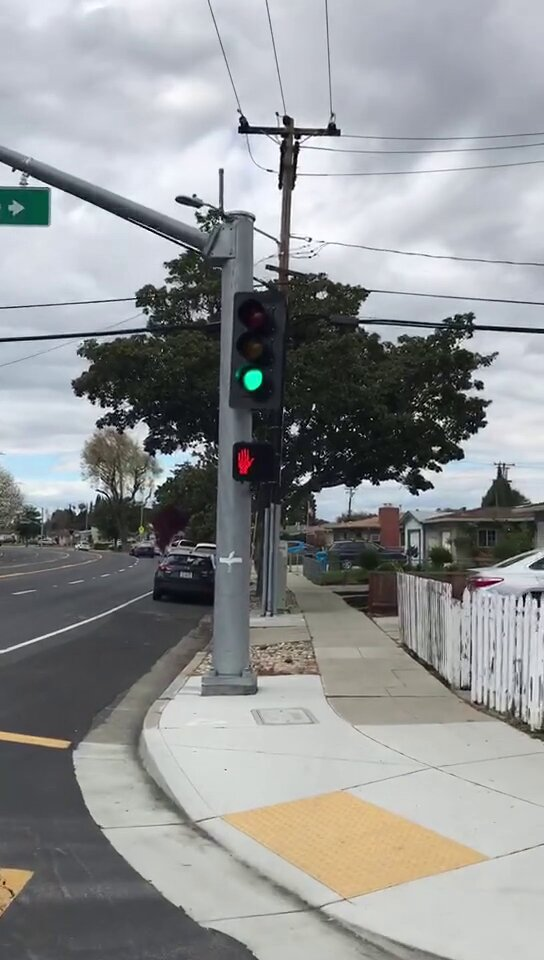green_light: (235, 292, 282, 407)
